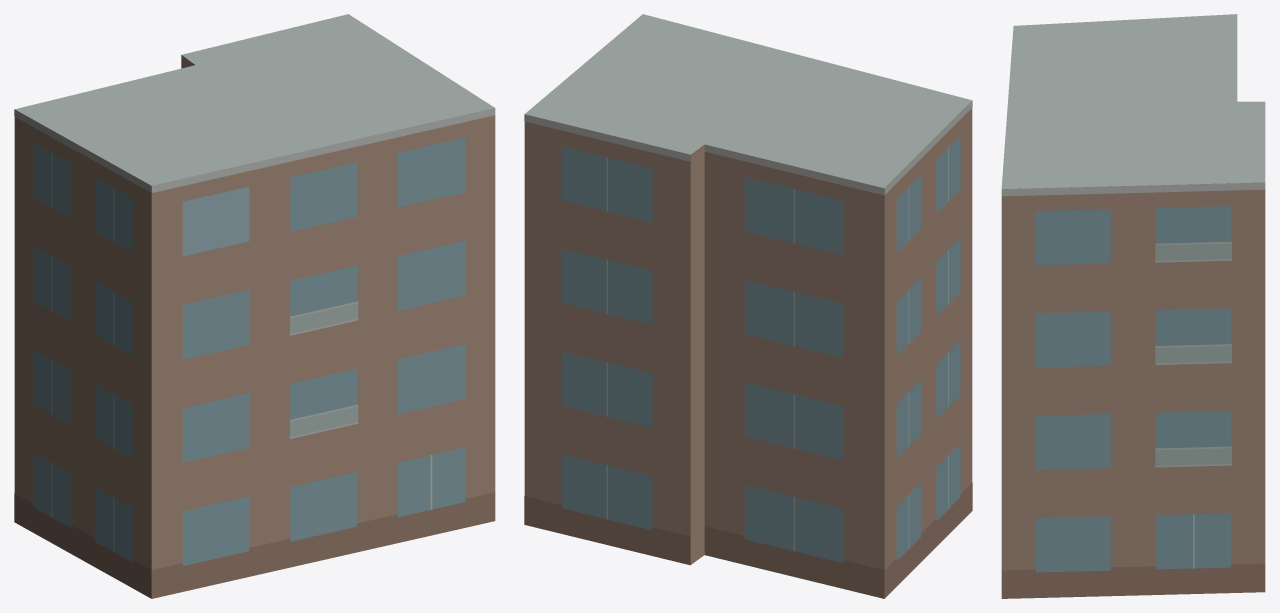
File: survey-upis-32476801.glb
3 views of the same model, side by side, from view 1: azimuth 30°, elevation 25°; view 2: azimuth 150°, elevation 25°; view 3: azimuth 270°, elevation 25° (orthographic).
Parts seen in each view (by area): view 1: survey-upis-32476801.tmp; view 2: survey-upis-32476801.tmp; view 3: survey-upis-32476801.tmp.
Boxes of the visible parts, x1,y1,x2,y2 form: survey-upis-32476801.tmp: [14, 14, 495, 598]; survey-upis-32476801.tmp: [524, 14, 972, 598]; survey-upis-32476801.tmp: [1001, 14, 1265, 598].
Bounding box in the file's own units: 12.76 × 13.9 × 8.13.
